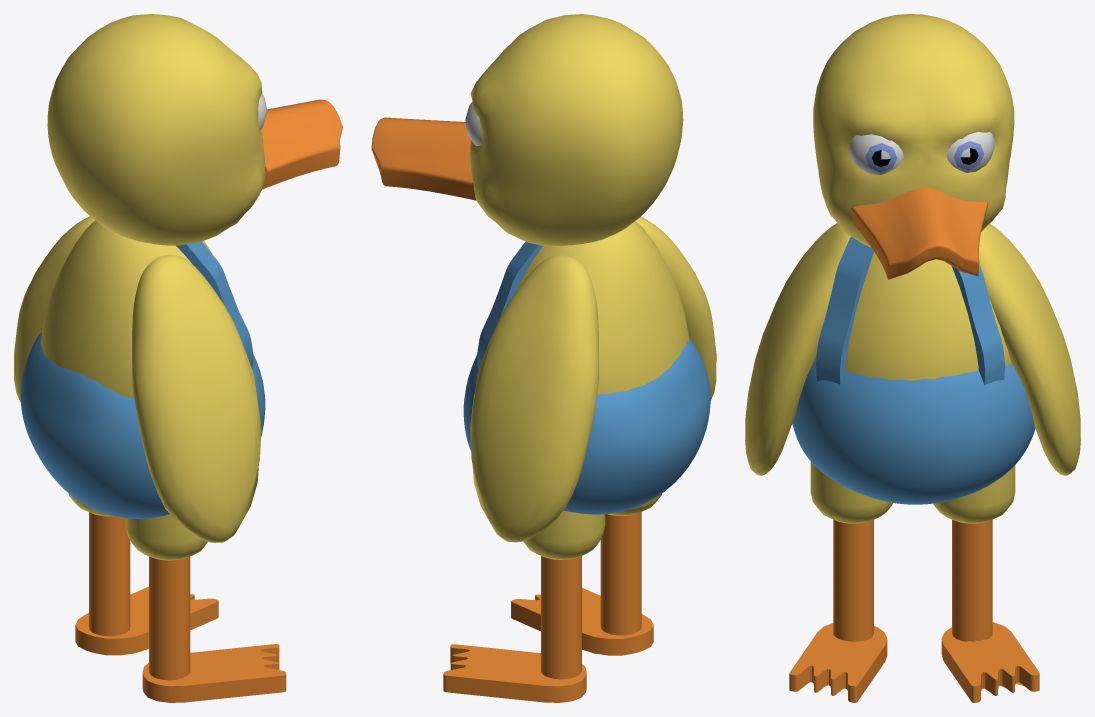
The model's file is duckFarmer.glb.
3 views of the same model, side by side, from view 1: azimuth 30°, elevation 25°; view 2: azimuth 150°, elevation 25°; view 3: azimuth 270°, elevation 25° (orthographic).
Visible parts, largest first — view 1: Sphere, Sphere.004, Sphere.003, Sphere.002, Cylinder, Cube.002, Cube, Cylinder.001, Cube.001; view 2: Sphere, Sphere.004, Sphere.003, Sphere.002, Cylinder, Cube.002, Cube, Cylinder.001, Cube.001; view 3: Sphere, Sphere.003, Sphere.004, Sphere.002, Cylinder, Cube.002, Cube, Cube.001, Cylinder.001, Sphere.001.
Boxes of the visible parts, x1,y1,x2,y2 form: Sphere: [47, 14, 265, 245]; Sphere.004: [14, 216, 261, 542]; Sphere.003: [20, 332, 265, 519]; Sphere.002: [41, 220, 233, 398]; Cylinder: [89, 512, 190, 680]; Cube.002: [75, 586, 286, 702]; Cube: [261, 99, 342, 189]; Cylinder.001: [68, 493, 207, 560]; Cube.001: [176, 241, 253, 369]; Sphere: [470, 14, 683, 246]; Sphere.004: [470, 217, 716, 542]; Sphere.003: [463, 337, 710, 514]; Sphere.002: [515, 221, 689, 394]; Cylinder: [541, 512, 641, 679]; Cube.002: [443, 587, 653, 702]; Cube: [371, 117, 475, 200]; Cylinder.001: [523, 494, 661, 559]; Cube.001: [477, 241, 542, 369]; Sphere: [813, 14, 1014, 247]; Sphere.003: [792, 359, 1035, 504]; Sphere.004: [745, 223, 1080, 475]; Sphere.002: [815, 252, 1011, 380]; Cylinder: [833, 519, 992, 641]; Cube.002: [789, 622, 1039, 702]; Cube: [851, 187, 988, 279]; Cube.001: [816, 237, 1004, 385]; Cylinder.001: [810, 461, 1015, 523]; Sphere.001: [848, 132, 994, 175].
Bounding box in the file's own units: 1.08 × 2.21 × 1.06.
